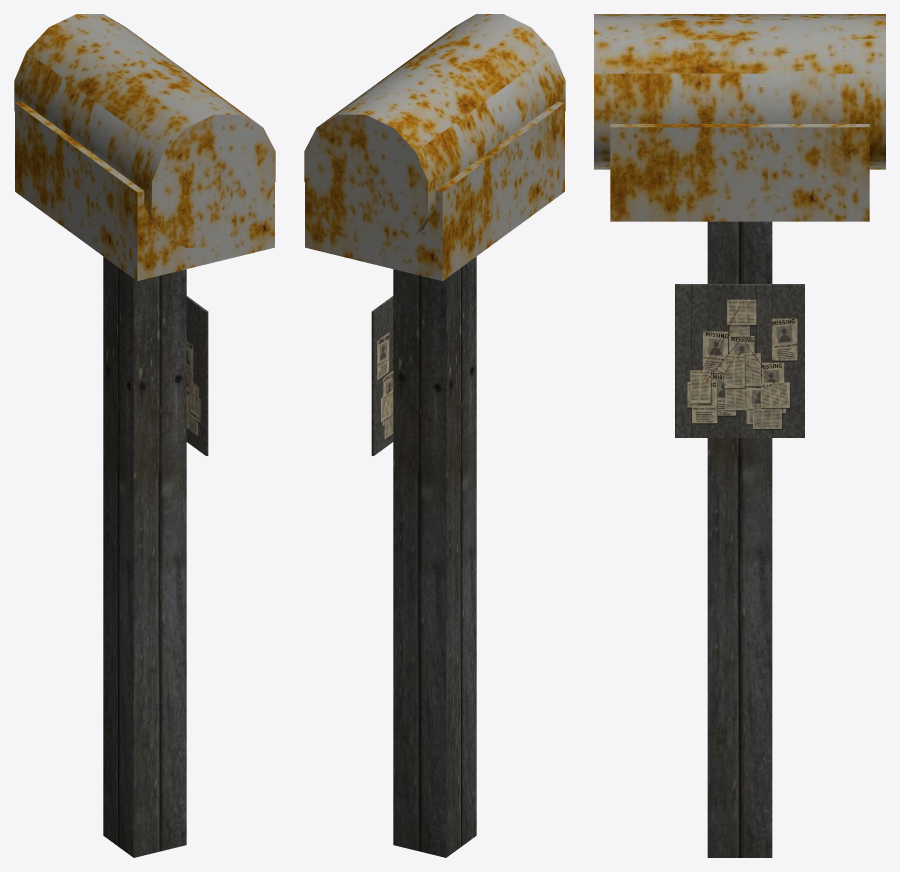
The model's file is mailbox_flyer.glb.
3 renders of one model, left to right at view 1: azimuth 30°, elevation 25°; view 2: azimuth 150°, elevation 25°; view 3: azimuth 270°, elevation 25°, orthographic. The views are drawn at different scales.
Visible parts, largest first — view 1: mailbox_flyer; view 2: mailbox_flyer; view 3: mailbox_flyer.
Boxes of the visible parts, box(x1,y1,x2,y2) form: mailbox_flyer: box(14, 14, 275, 857); mailbox_flyer: box(304, 14, 565, 857); mailbox_flyer: box(594, 14, 885, 857).
Size of the model in its own units: 0.26 by 1.4 by 0.45.
3 materials, 3 textured.
